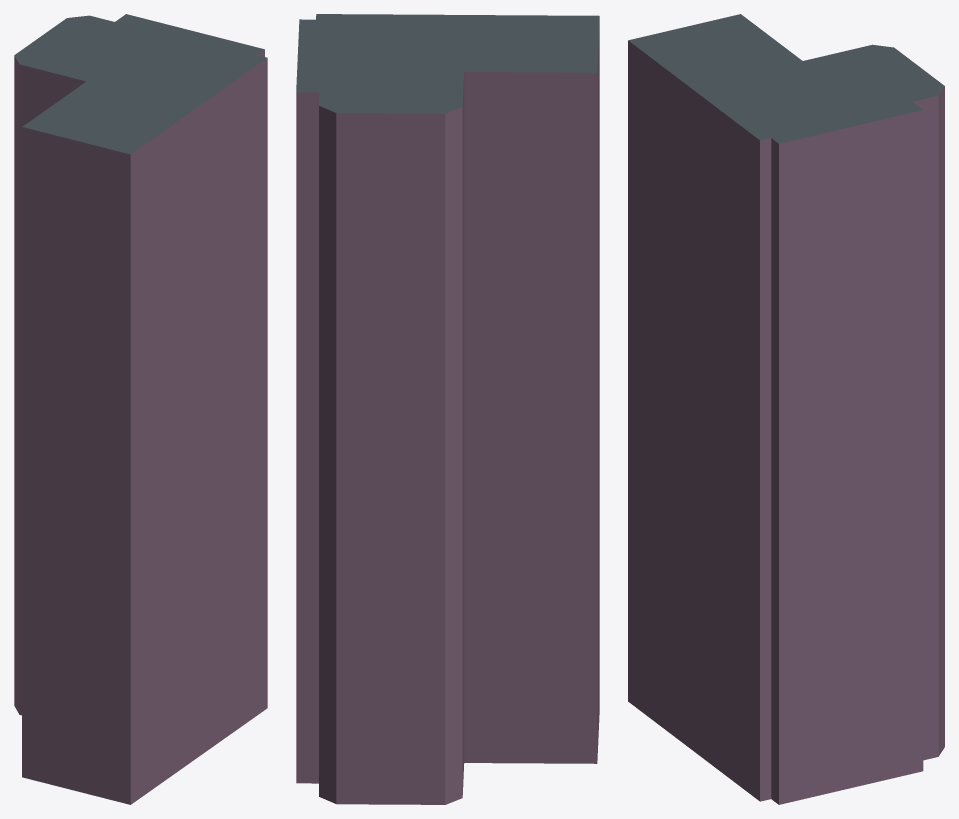
File: nyc-1022631-0.glb
3 renders of one model, left to right at view 1: azimuth 30°, elevation 25°; view 2: azimuth 150°, elevation 25°; view 3: azimuth 270°, elevation 25°, orthographic. The views are drawn at different scales.
Parts seen in each view (by area): view 1: nyc-1022631-0; view 2: nyc-1022631-0; view 3: nyc-1022631-0.
Part boxes in pixels (x1,y1,x2,y2): nyc-1022631-0: (14, 14, 267, 804); nyc-1022631-0: (296, 14, 599, 804); nyc-1022631-0: (628, 14, 944, 804).
Size of the model in its own units: 65.6 by 156 by 67.66.
